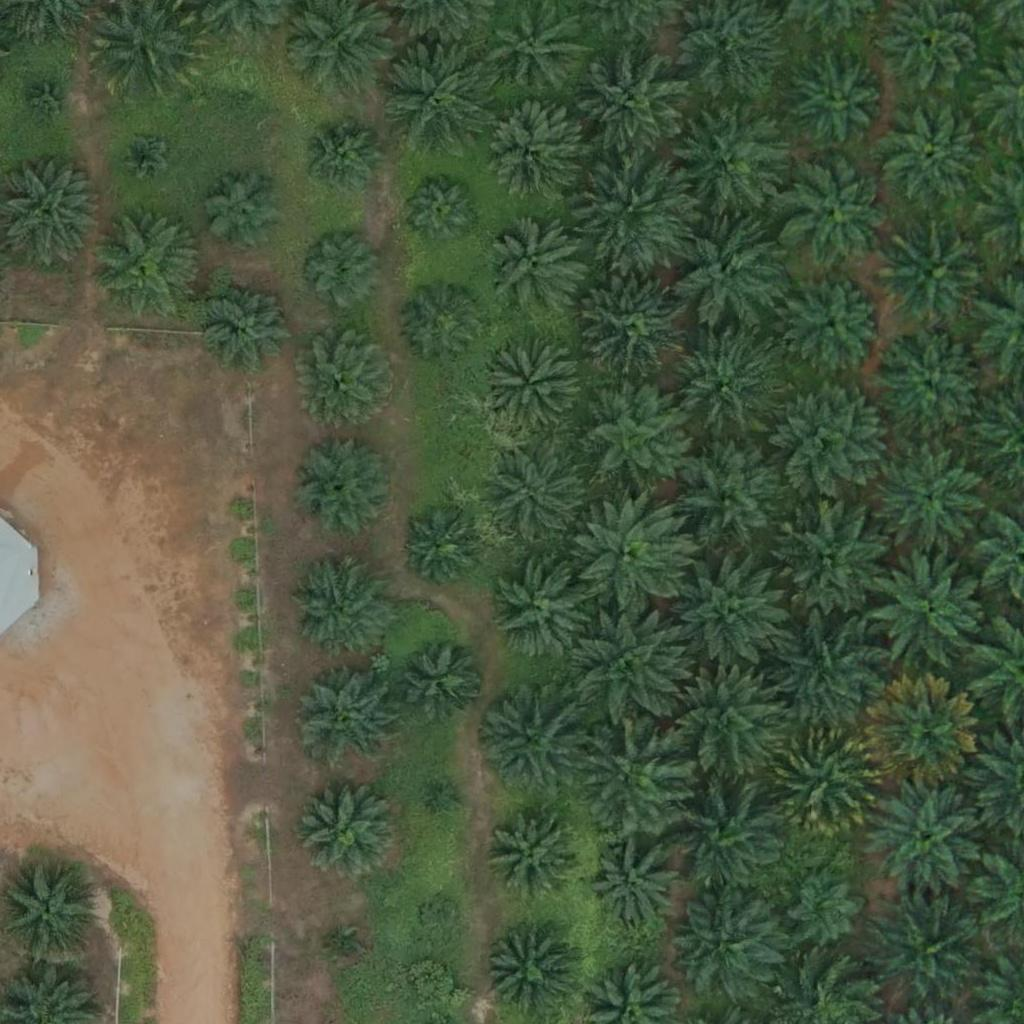Kelapa_Sawit: (380, 33, 493, 147), (475, 684, 588, 798), (579, 155, 692, 268), (580, 272, 693, 385), (676, 103, 789, 216), (673, 217, 786, 330), (667, 328, 780, 441), (675, 443, 788, 556), (775, 383, 888, 496), (778, 497, 891, 610), (777, 615, 890, 728), (866, 676, 979, 789), (768, 725, 881, 838), (868, 777, 981, 890), (865, 895, 978, 1008), (577, 48, 689, 162), (90, 209, 202, 323), (575, 612, 687, 726), (669, 782, 781, 896), (673, 885, 785, 999), (578, 718, 690, 832), (575, 381, 687, 494), (574, 502, 686, 615), (677, 554, 789, 667), (780, 157, 892, 270), (875, 96, 987, 209), (882, 223, 994, 336), (875, 329, 987, 442), (875, 448, 987, 561), (872, 554, 984, 667), (666, 669, 778, 782), (784, 48, 884, 149), (288, 556, 388, 657), (480, 105, 580, 206), (486, 217, 586, 318), (481, 335, 581, 436), (786, 274, 886, 375), (296, 667, 396, 768), (294, 775, 394, 876), (298, 330, 398, 430), (293, 437, 393, 537), (491, 449, 591, 549), (493, 562, 593, 662), (207, 282, 295, 370), (201, 167, 288, 255), (300, 117, 387, 205), (297, 226, 384, 314), (399, 281, 486, 369), (591, 841, 678, 929), (491, 808, 578, 896), (484, 930, 571, 1018), (397, 637, 484, 725), (404, 509, 479, 585), (786, 869, 861, 945), (402, 173, 477, 248), (25, 75, 75, 126), (119, 131, 169, 182), (216, 68, 266, 118), (422, 900, 460, 938), (435, 785, 460, 810), (331, 935, 356, 960)
